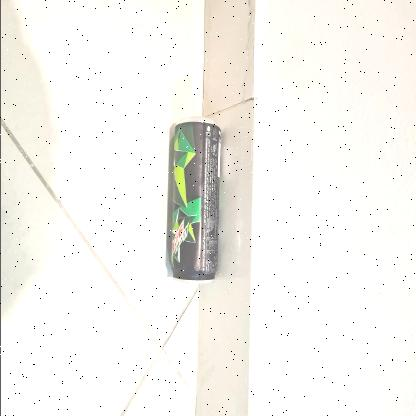Can: (164, 119, 220, 283)
